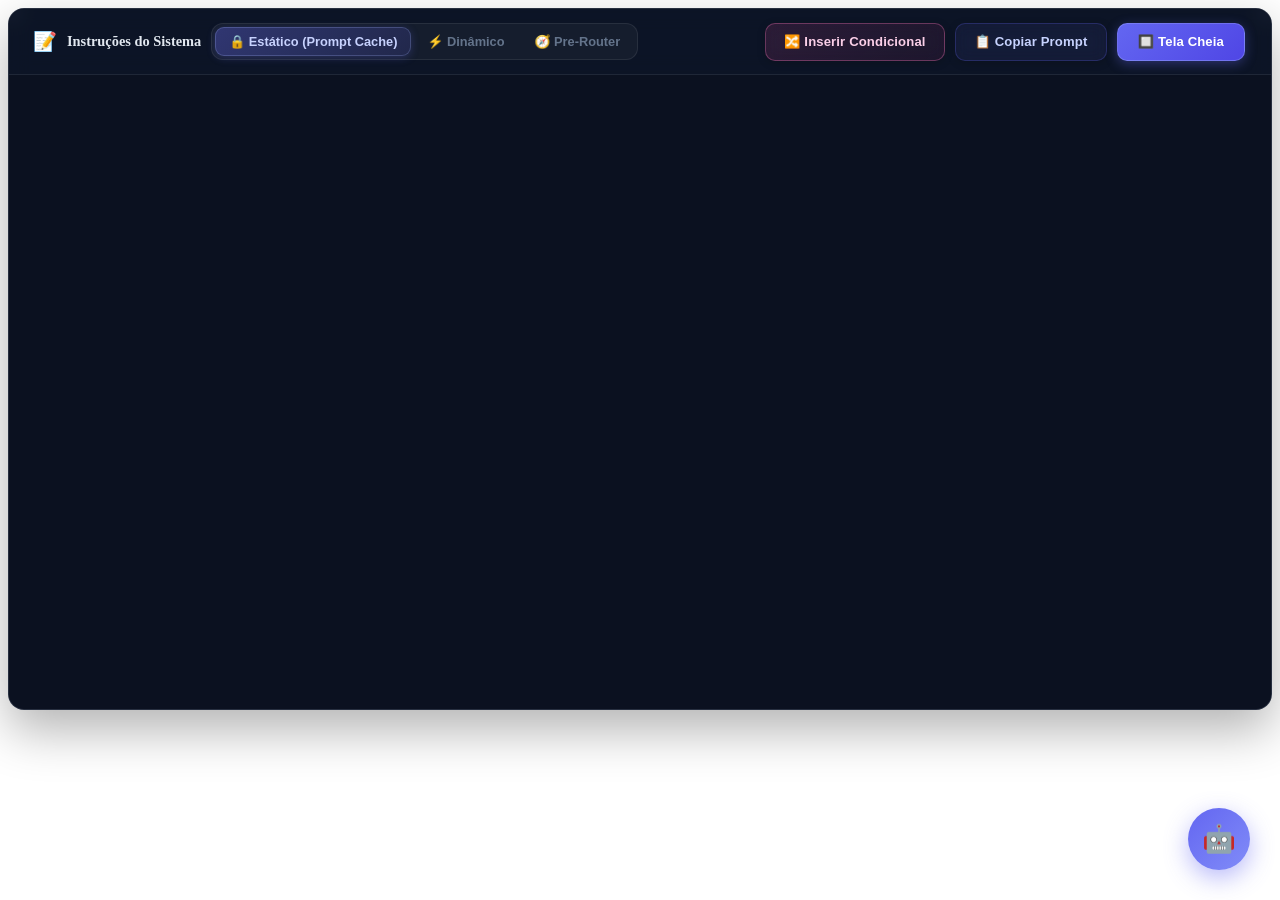
Test case: PromptEditor - Nova Arquitetura com Consultor › deve permitir enviar mensagem para o consultor e receber resposta
// Abre o chat antes de enviar
Click the button "🤖" at (1219, 839), box [1188,808,1250,870]
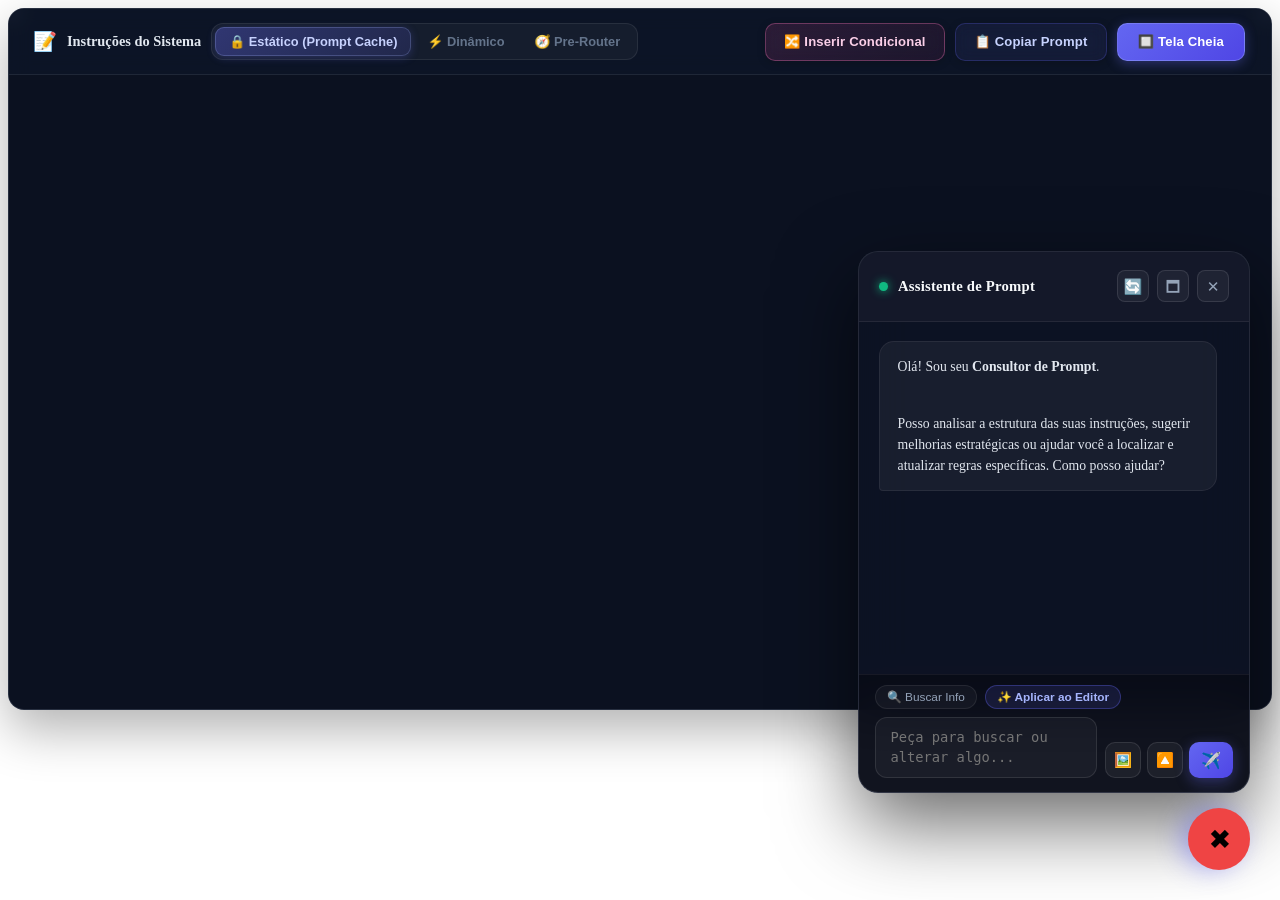
Type "Como melhorar este prompt?" into the text box with placeholder "Peça para buscar ou alterar algo..." at (986, 748), box [875,717,1097,778]
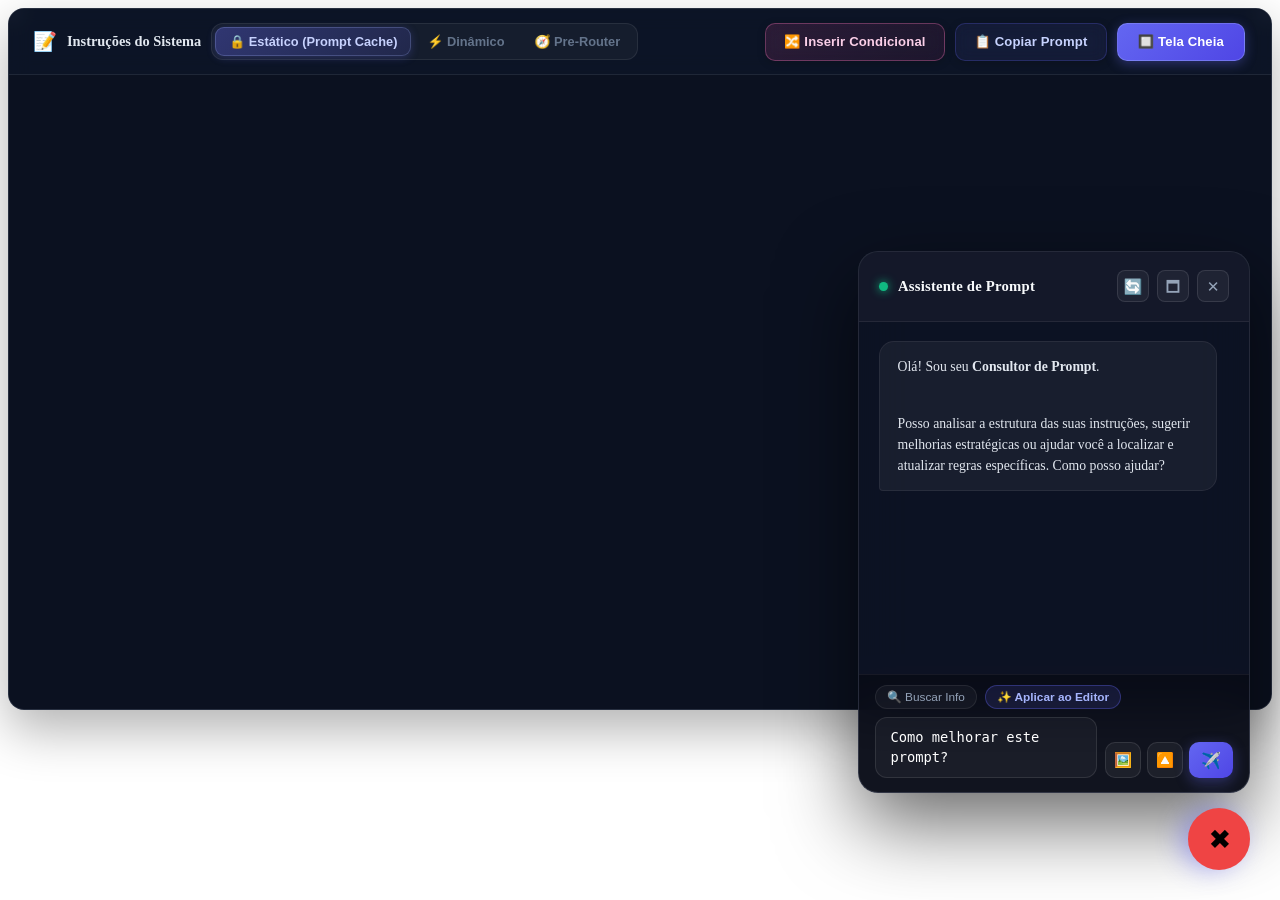
Click the button "✈️" at (1211, 760), box [1189,742,1233,778]
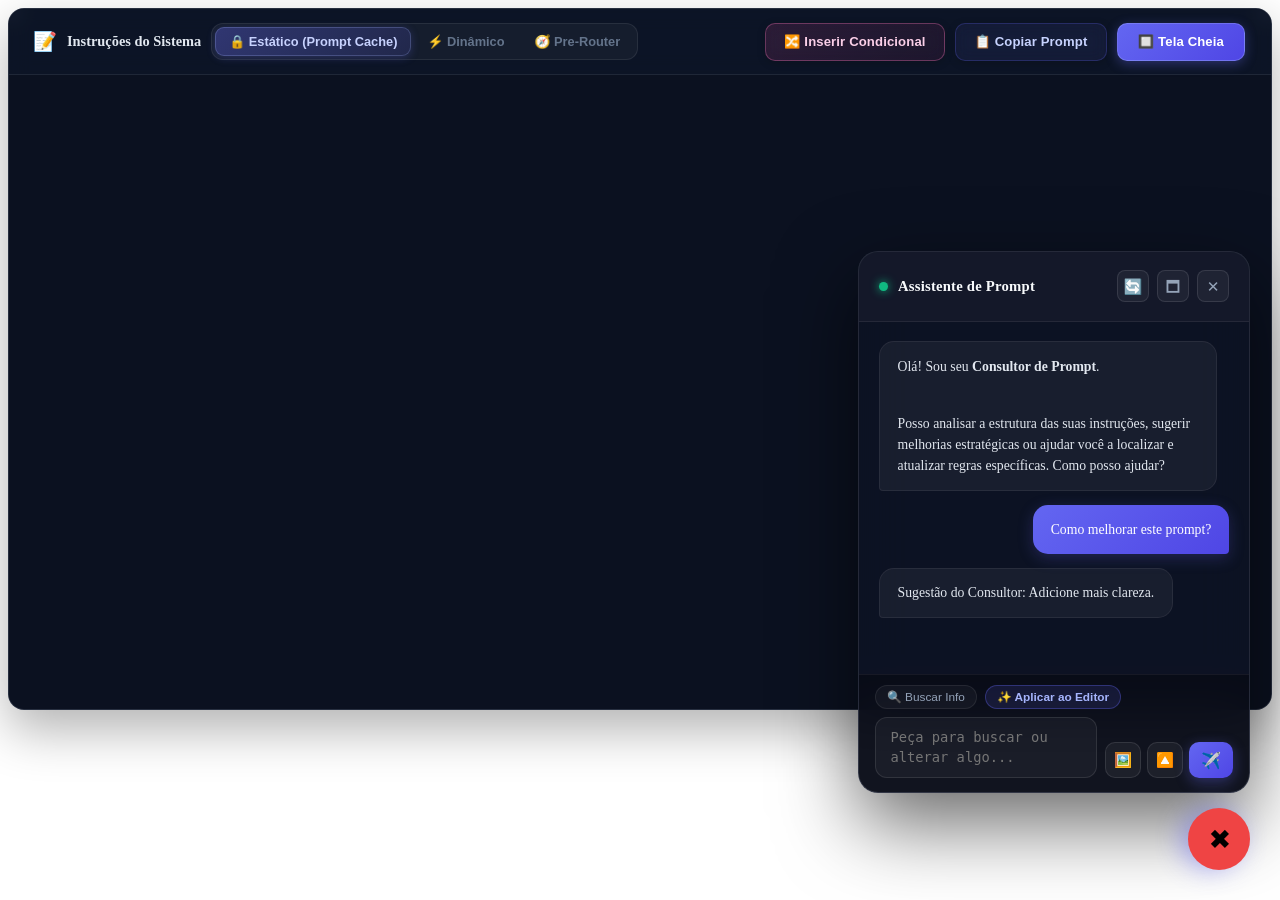
Expected: the text "Como melhorar este prompt?" is shown, [1051,519,1211,540]
Expected: the text "Sugestão do Consultor: Adicione mais clareza." is shown, [898,582,1154,604]
